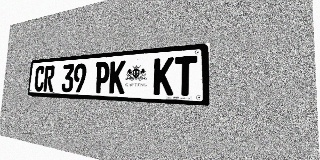3: (61, 64, 74, 92)
9: (73, 63, 87, 93)
C: (34, 66, 45, 91)
K: (153, 57, 174, 95), (109, 60, 126, 94)
P: (94, 61, 110, 93)
R: (43, 65, 55, 92)
T: (174, 55, 197, 96)
